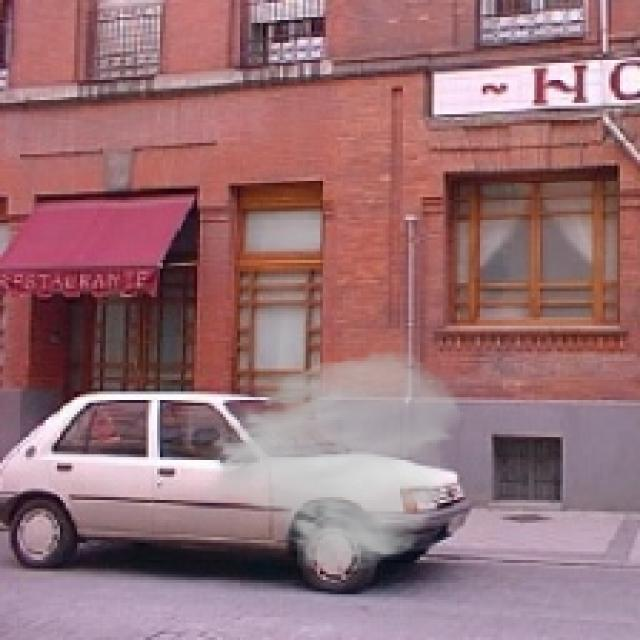Smoke: (200, 348, 466, 574)
